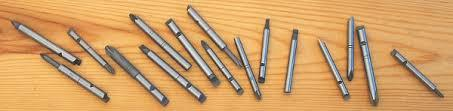screwdriver: (185, 4, 242, 68), (387, 46, 444, 98), (354, 23, 380, 106), (316, 37, 349, 97), (235, 37, 262, 99), (127, 10, 164, 43), (282, 26, 300, 93), (257, 15, 272, 81), (36, 50, 73, 75), (136, 42, 168, 69), (193, 57, 220, 85), (345, 15, 353, 79), (102, 42, 127, 62), (200, 38, 218, 62), (6, 17, 31, 34), (93, 57, 115, 73)
